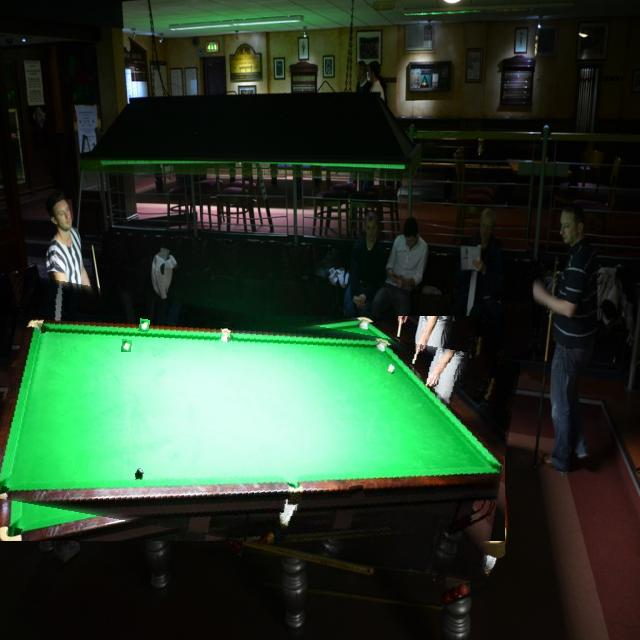Ball: (350, 485, 364, 500), (122, 339, 132, 352)
Billiard table: (0, 295, 512, 561)
